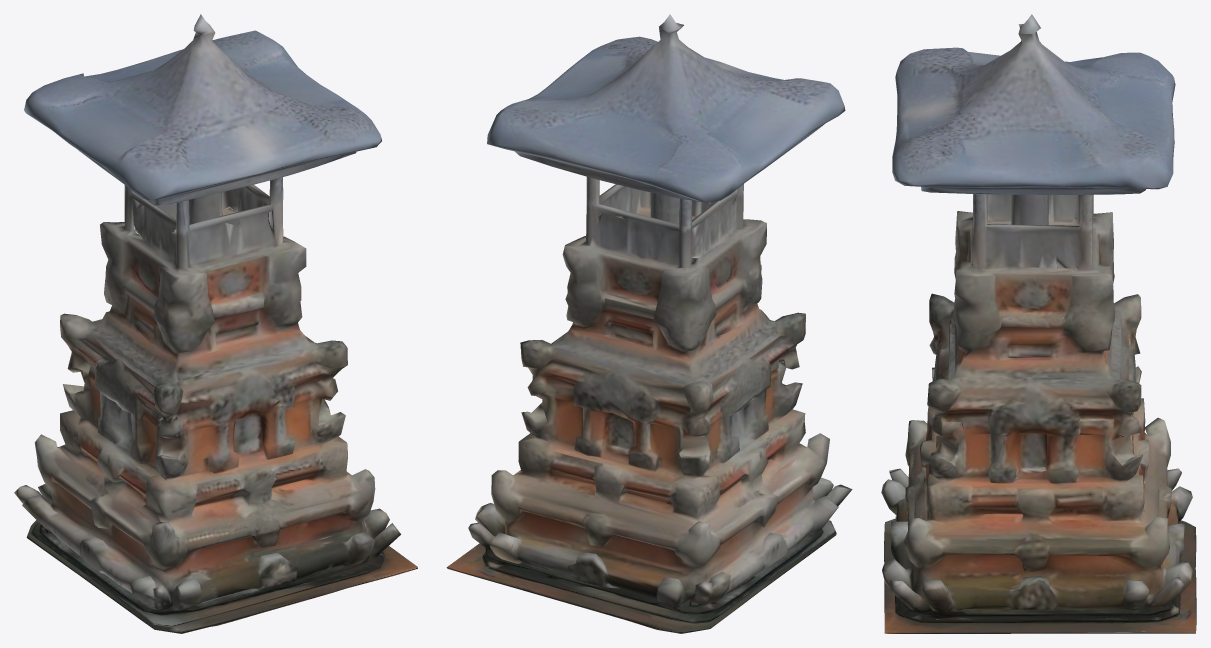
File: pura_westin.glb
3 renders of one model, left to right at view 1: azimuth 30°, elevation 25°; view 2: azimuth 150°, elevation 25°; view 3: azimuth 270°, elevation 25°, orthographic. The views are drawn at different scales.
Parts seen in each view (by area): view 1: tripo_node_77ff8a4a-2d0c-4f22-ac7f-2474adb442f7; view 2: tripo_node_77ff8a4a-2d0c-4f22-ac7f-2474adb442f7; view 3: tripo_node_77ff8a4a-2d0c-4f22-ac7f-2474adb442f7.
Part boxes in pixels (<box>): tripo_node_77ff8a4a-2d0c-4f22-ac7f-2474adb442f7: <box>14,14,417,633</box>; tripo_node_77ff8a4a-2d0c-4f22-ac7f-2474adb442f7: <box>446,14,852,633</box>; tripo_node_77ff8a4a-2d0c-4f22-ac7f-2474adb442f7: <box>881,14,1196,633</box>.
Size of the model in its own units: 0.5083 by 0.9966 by 0.5105.
Materials: 1 (1 with a texture image).
